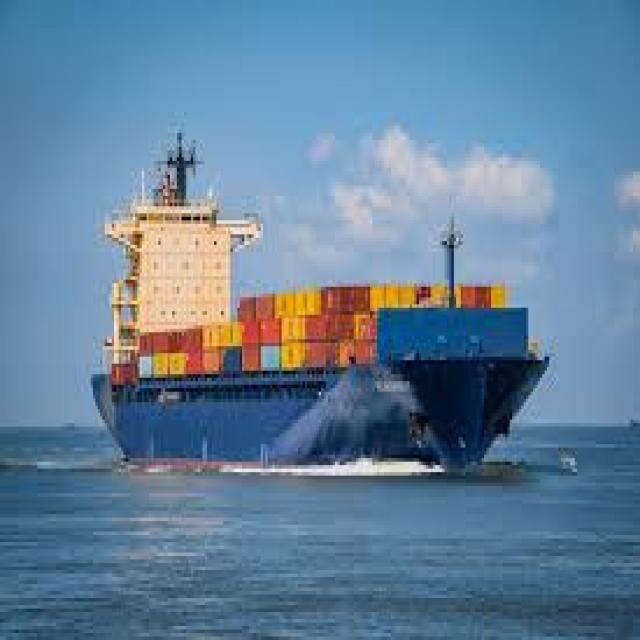cargoship: (95, 130, 549, 478)
